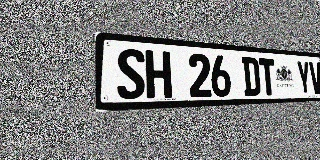2: (188, 53, 212, 98)
6: (210, 55, 232, 97)
D: (242, 57, 261, 96)
H: (145, 50, 172, 99)
S: (116, 48, 146, 100)
T: (259, 58, 277, 96)
V: (309, 62, 320, 94)
Y: (296, 61, 312, 95)
